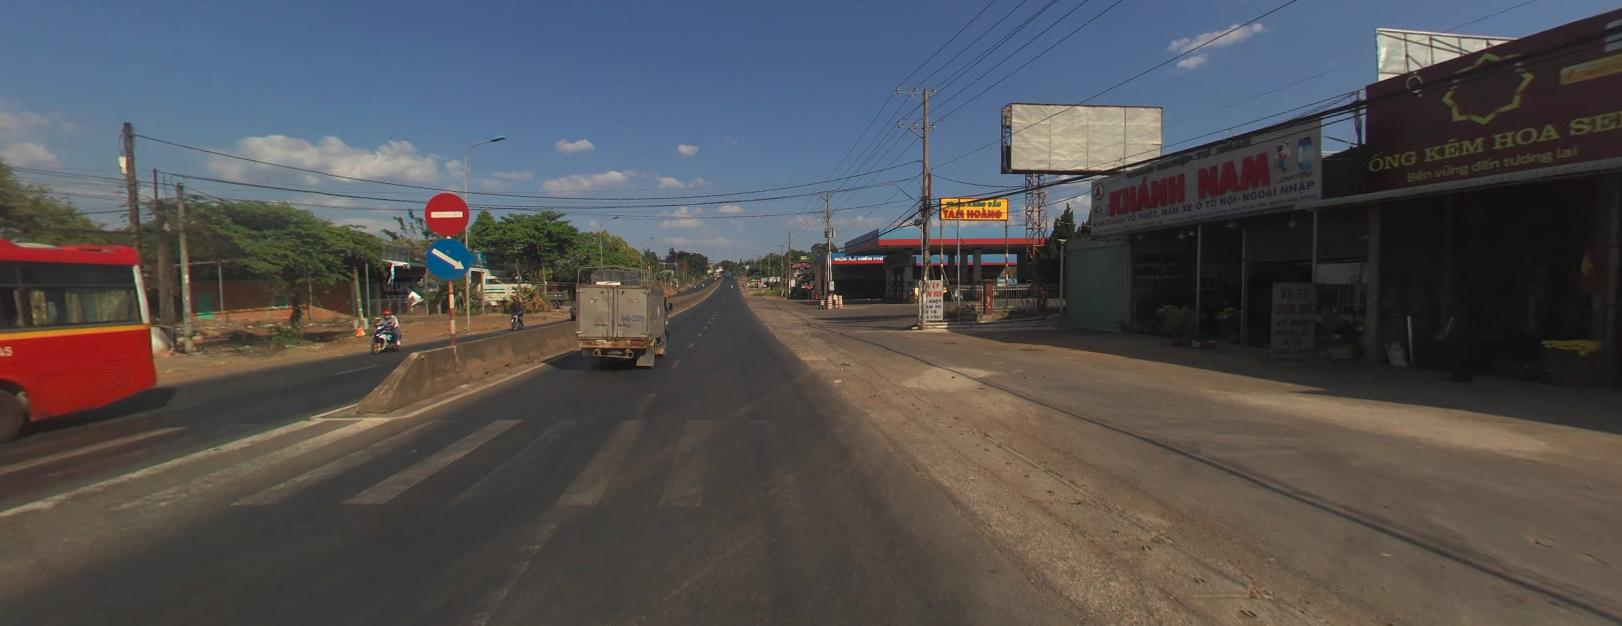Cam nguoc chieu: (424, 191, 467, 233)
Hieu lenh: (426, 237, 470, 278)
